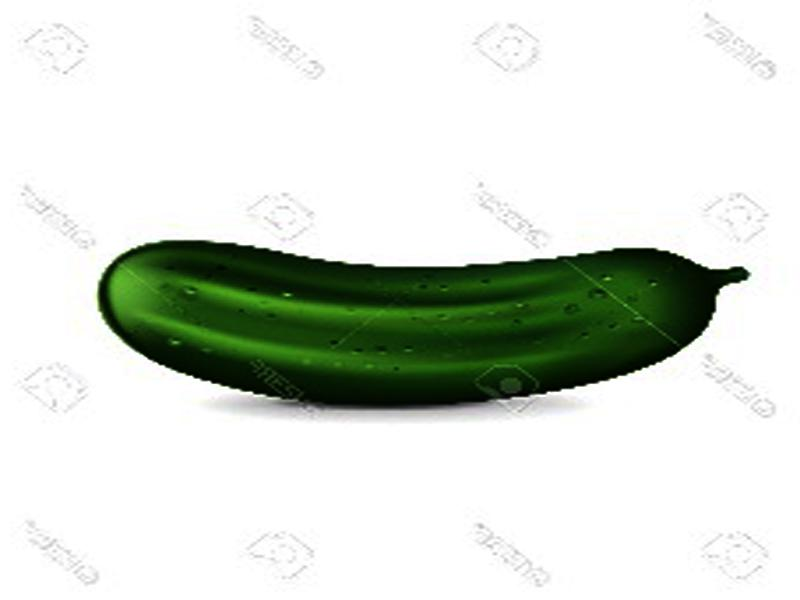Cucumber: (98, 241, 746, 407)
